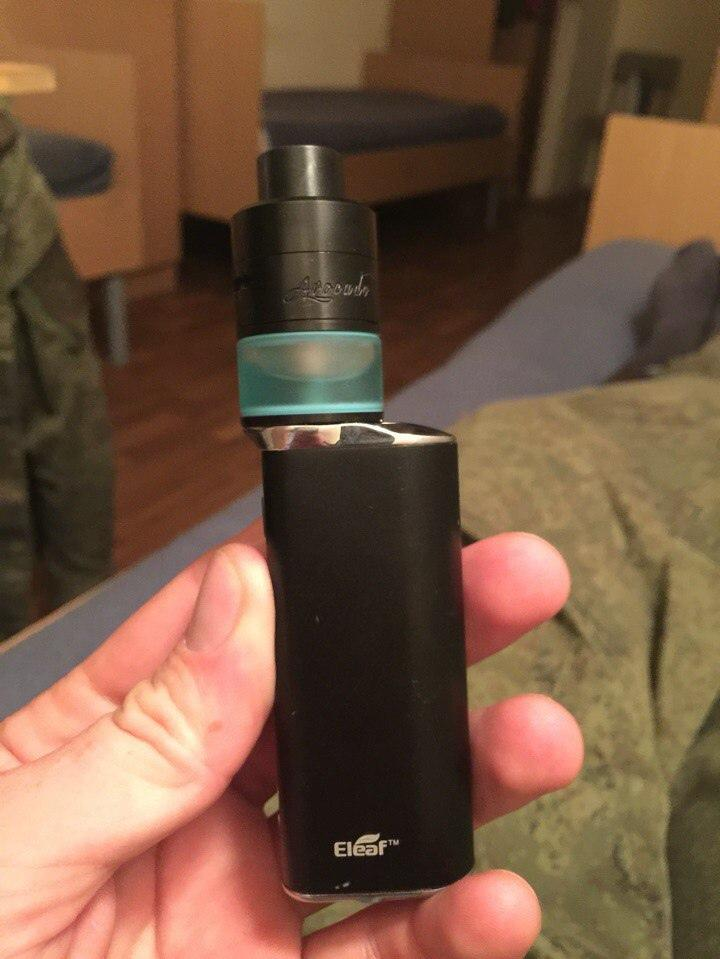Vape: (232, 145, 472, 901)
